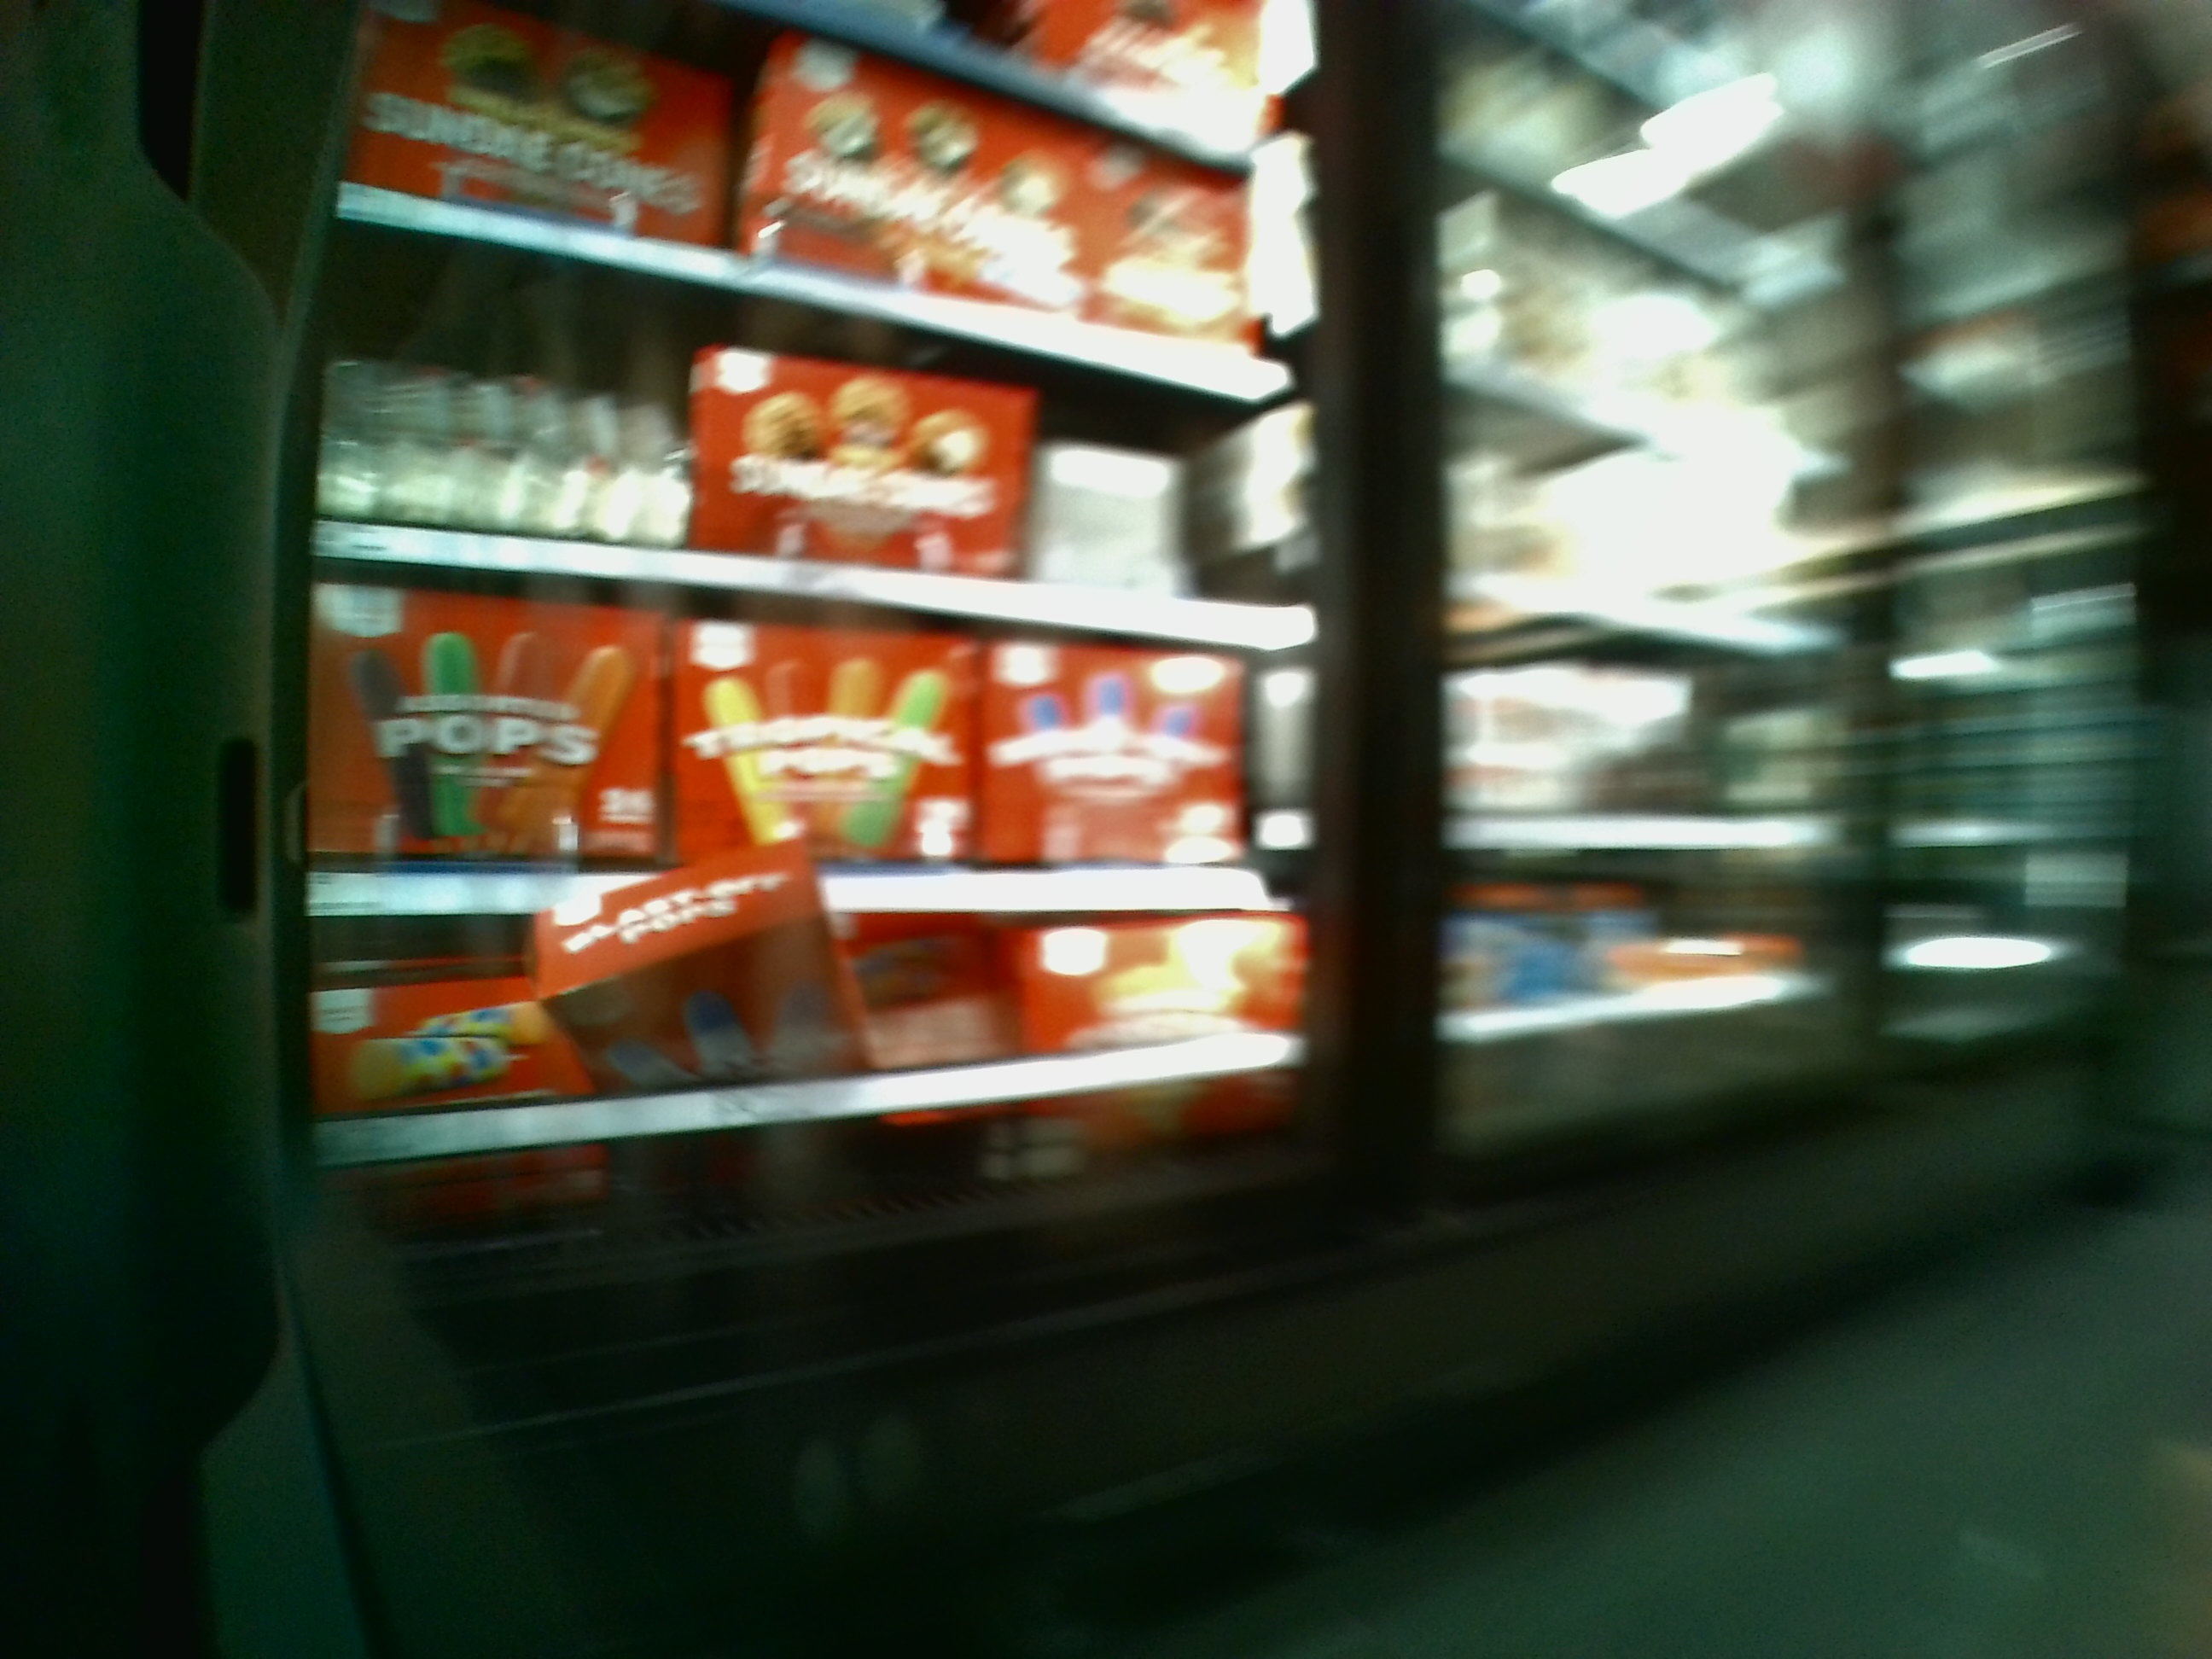shelf: (307, 605, 1313, 920), (314, 913, 1317, 1215), (327, 305, 1287, 608)
